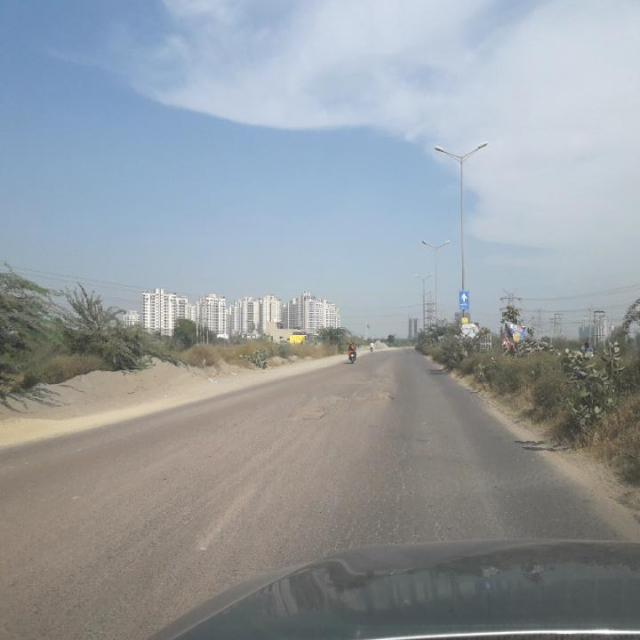D00: (108, 429, 304, 586)
D20: (0, 441, 291, 637), (298, 420, 594, 551)
D40: (270, 367, 403, 421)
D44: (191, 472, 266, 559)
